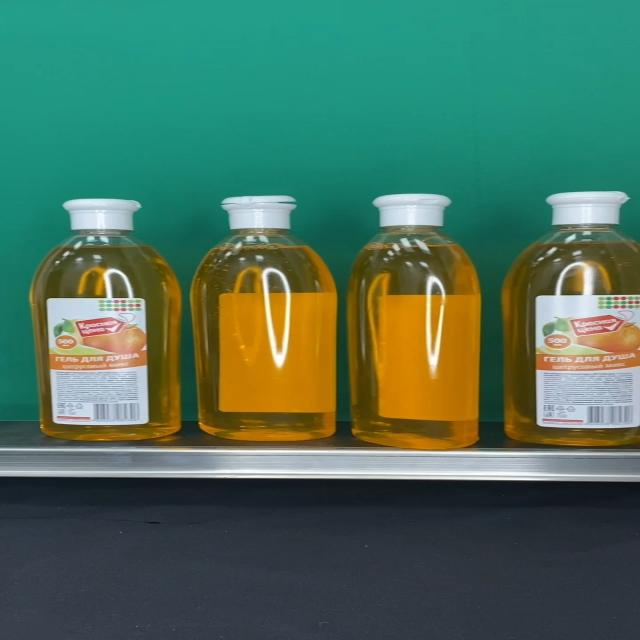Bottle: (31, 198, 181, 441), (191, 195, 337, 442), (503, 191, 640, 446), (348, 193, 482, 450)
Cap: (544, 192, 631, 226), (370, 194, 452, 226), (220, 195, 297, 229), (64, 198, 142, 231)
